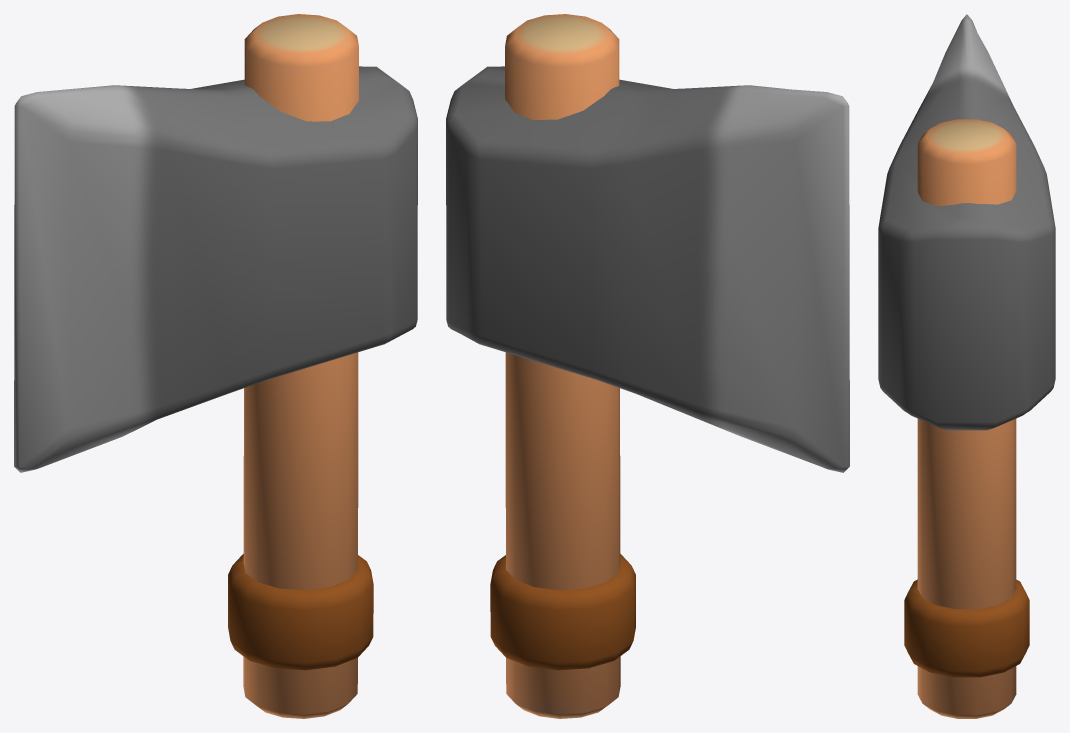
Rendered from axe.fbx.
3 views of the same model, side by side, from view 1: azimuth 30°, elevation 25°; view 2: azimuth 150°, elevation 25°; view 3: azimuth 270°, elevation 25° (orthographic). The views are drawn at different scales.
Visible parts, largest first — view 1: axe; view 2: axe; view 3: axe.
Part boxes in pixels (bbox=[...]): axe: bbox=[14, 14, 417, 718]; axe: bbox=[446, 14, 849, 718]; axe: bbox=[878, 14, 1055, 718].
Bounding box in the file's own units: 49.77 × 83.69 × 23.51.
Materials: 1 (1 with a texture image).
